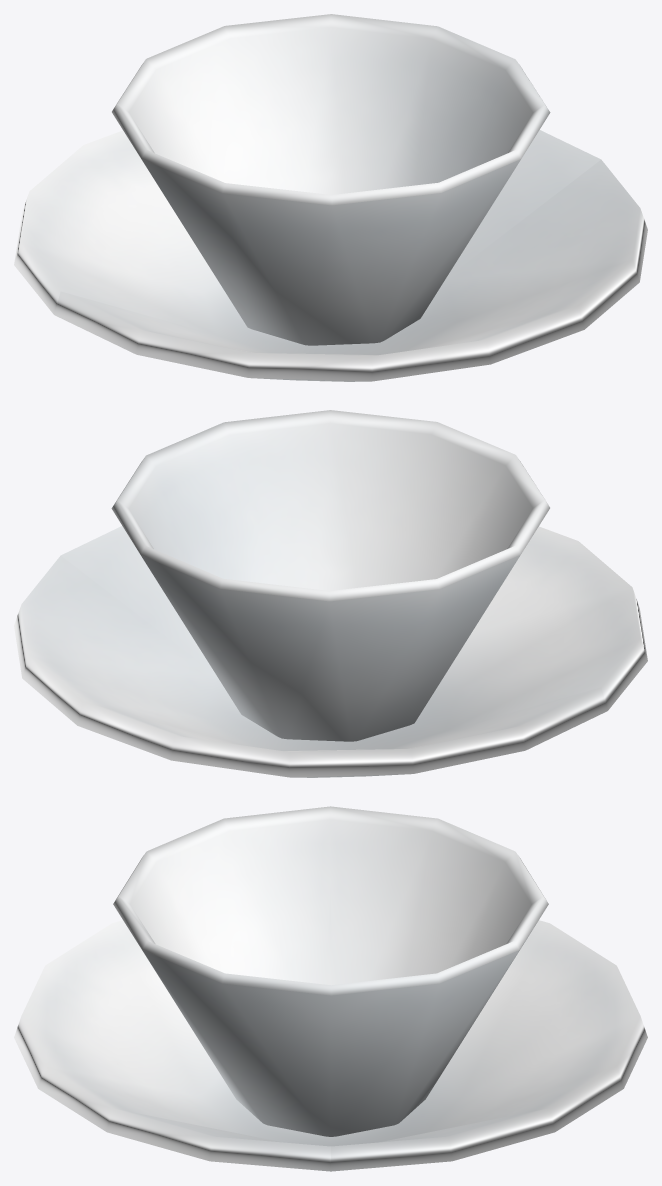
The model's file is DanShenGongYu_01_ChaWan_01_uv2.fbx.
3 views of the same model, one above another, from view 1: azimuth 30°, elevation 25°; view 2: azimuth 150°, elevation 25°; view 3: azimuth 270°, elevation 25° (orthographic).
Parts seen in each view (by area): view 1: panzi_yigai; view 2: panzi_yigai; view 3: panzi_yigai.
Boxes of the visible parts, bbox=[...] form: panzi_yigai: bbox=[14, 14, 647, 381]; panzi_yigai: bbox=[14, 410, 647, 777]; panzi_yigai: bbox=[14, 806, 647, 1171].
Size of the model in its own units: 114 by 43.58 by 114.
